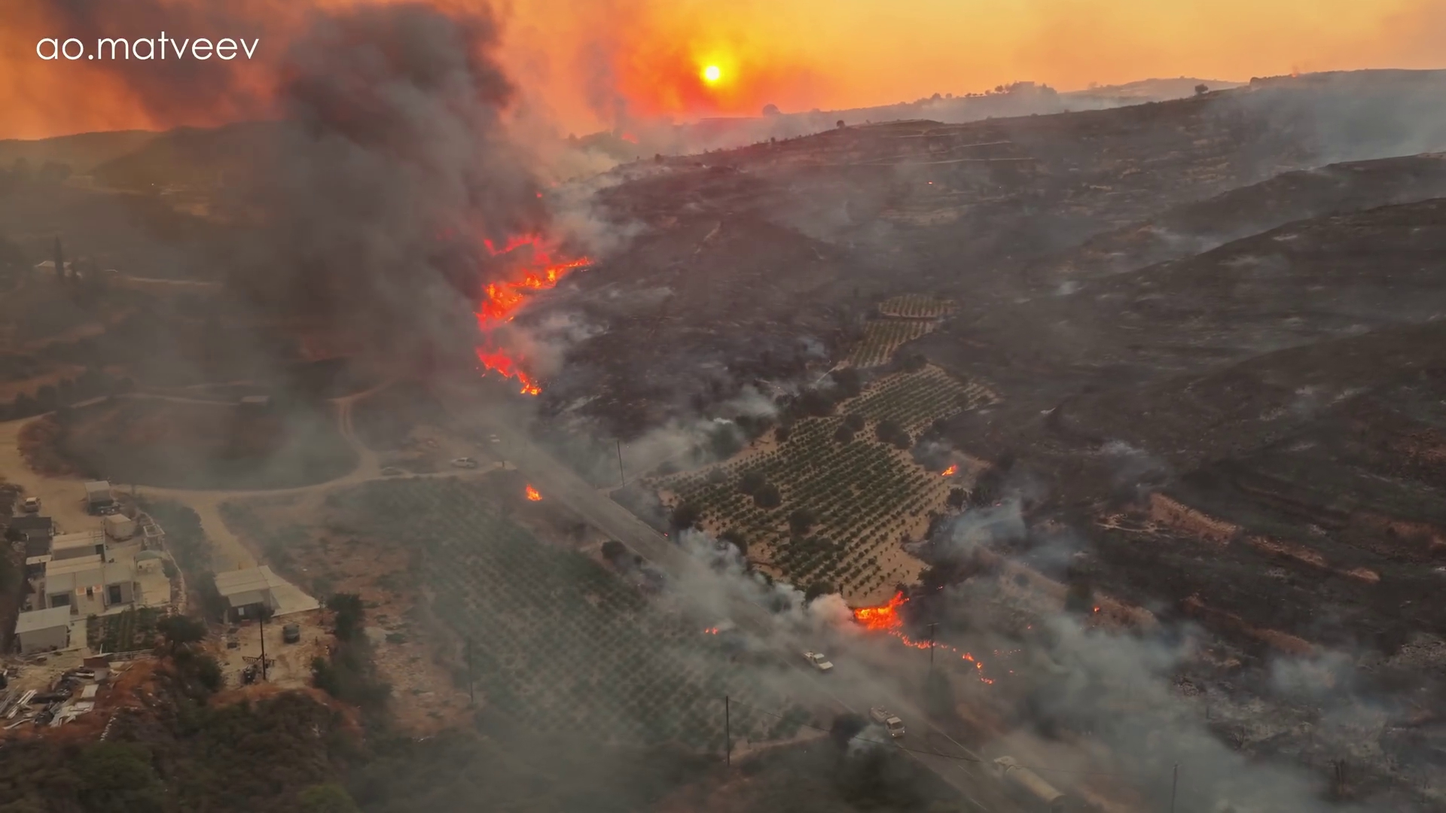forest_fire: (475, 233, 590, 394), (852, 592, 993, 683), (525, 483, 541, 500), (940, 463, 957, 476)
